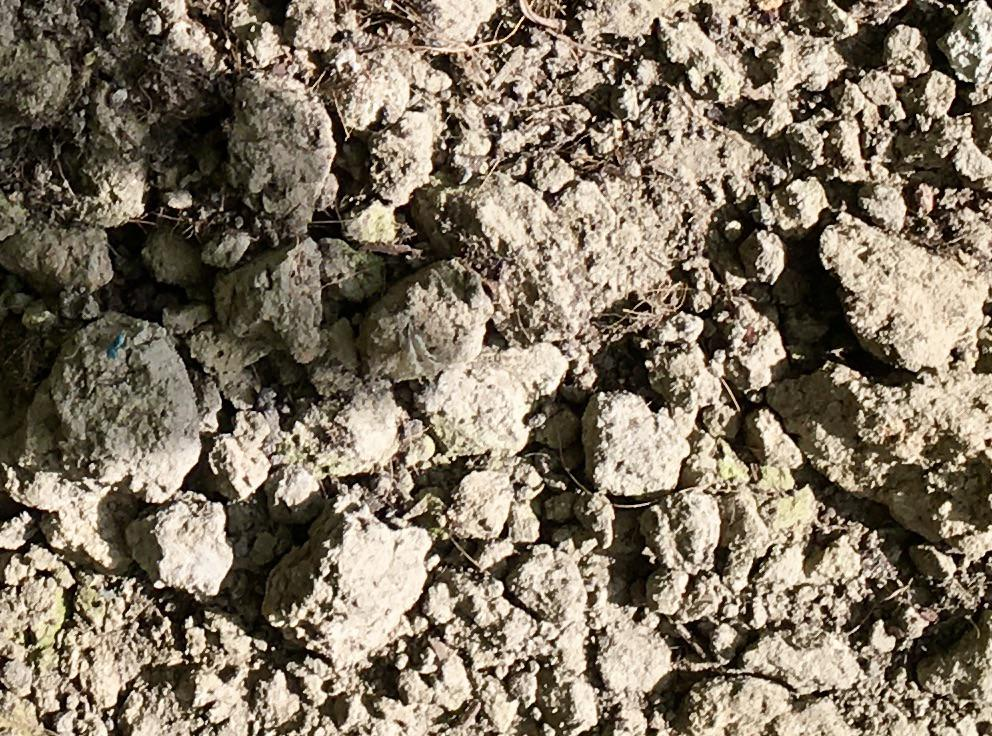block: (18, 312, 201, 500), (259, 496, 432, 672), (828, 203, 992, 377), (358, 258, 492, 395), (218, 75, 330, 230), (427, 343, 569, 462), (580, 388, 690, 500)
